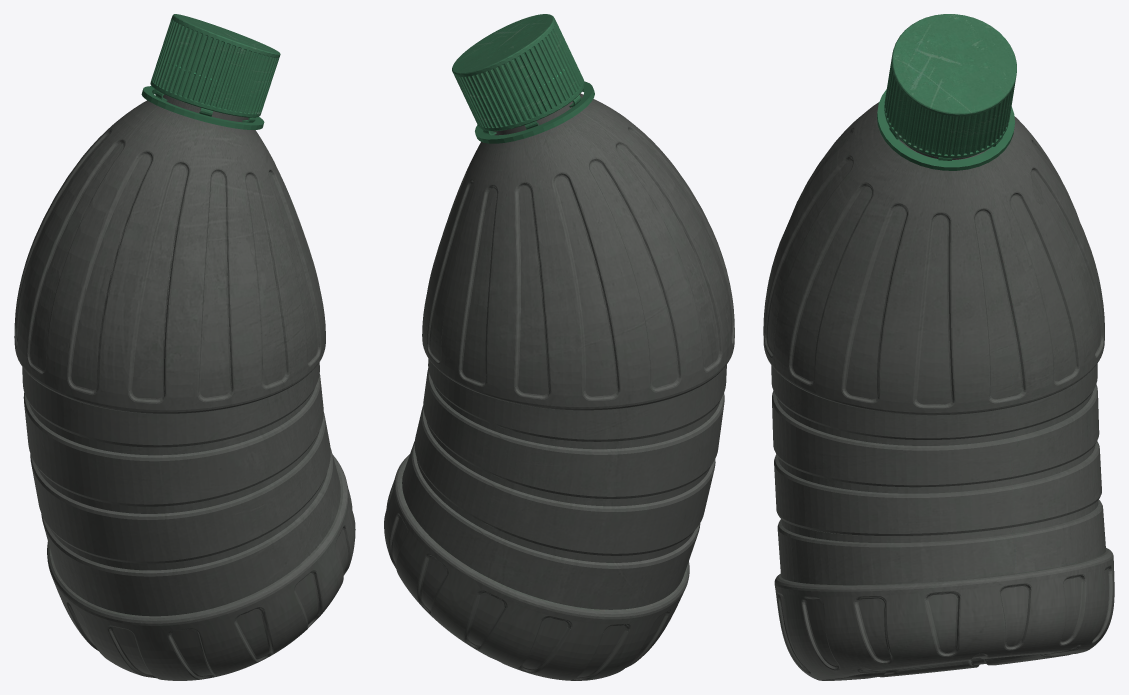
Rendered from bend_medium_0.obj.
3 renders of one model, left to right at view 1: azimuth 30°, elevation 25°; view 2: azimuth 150°, elevation 25°; view 3: azimuth 270°, elevation 25°, orthographic. The views are drawn at different scales.
Parts seen in each view (by area): view 1: model; view 2: model; view 3: model.
Boxes of the visible parts, bbox=[...] form: model: bbox=[14, 14, 355, 680]; model: bbox=[384, 14, 734, 680]; model: bbox=[763, 14, 1114, 680].
Size of the model in its own units: 0.1379 by 0.2731 by 0.1264.
Materials: 1 (1 with a texture image).
